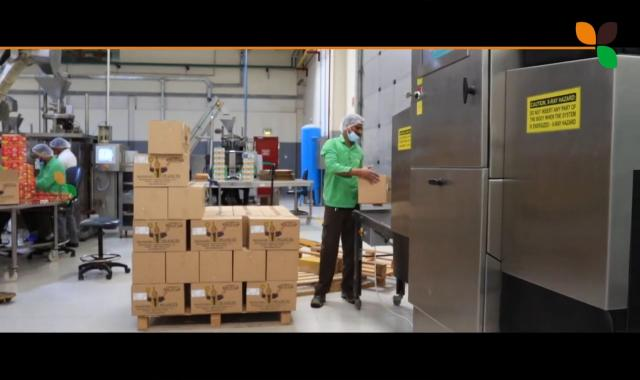hairnet: (339, 114, 362, 141), (32, 144, 53, 160), (51, 137, 75, 151)
